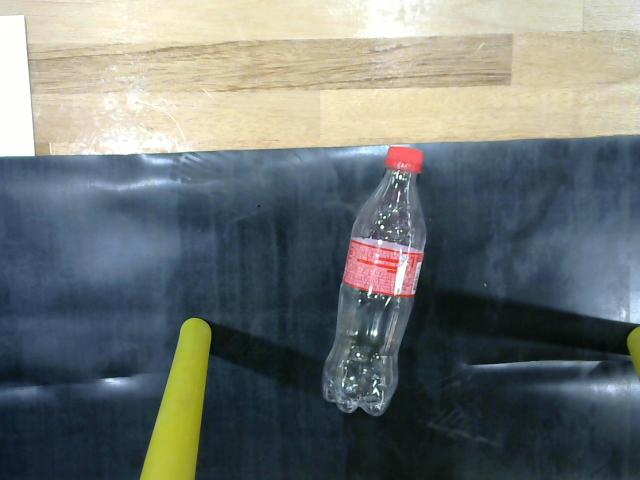bottle: (316, 142, 433, 426)
